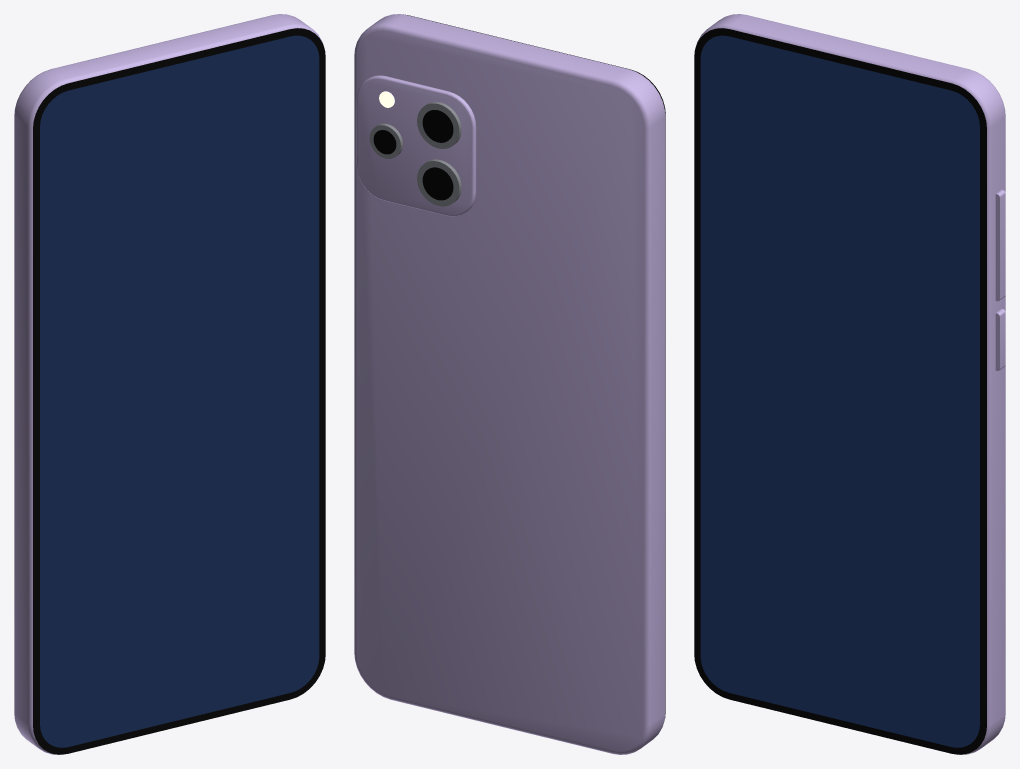
Rendered from pulse-x.glb.
3 renders of one model, left to right at view 1: azimuth 30°, elevation 25°; view 2: azimuth 150°, elevation 25°; view 3: azimuth 330°, elevation 25°, orthographic.
Visible parts, largest first — view 1: pulse-x; view 2: pulse-x; view 3: pulse-x.
Part boxes in pixels (x1=…): pulse-x: x1=14, y1=14, x2=325, y2=754; pulse-x: x1=354, y1=14, x2=665, y2=754; pulse-x: x1=694, y1=14, x2=1005, y2=754.
Size of the model in its own units: 0.0766 by 0.164 by 0.0111.
